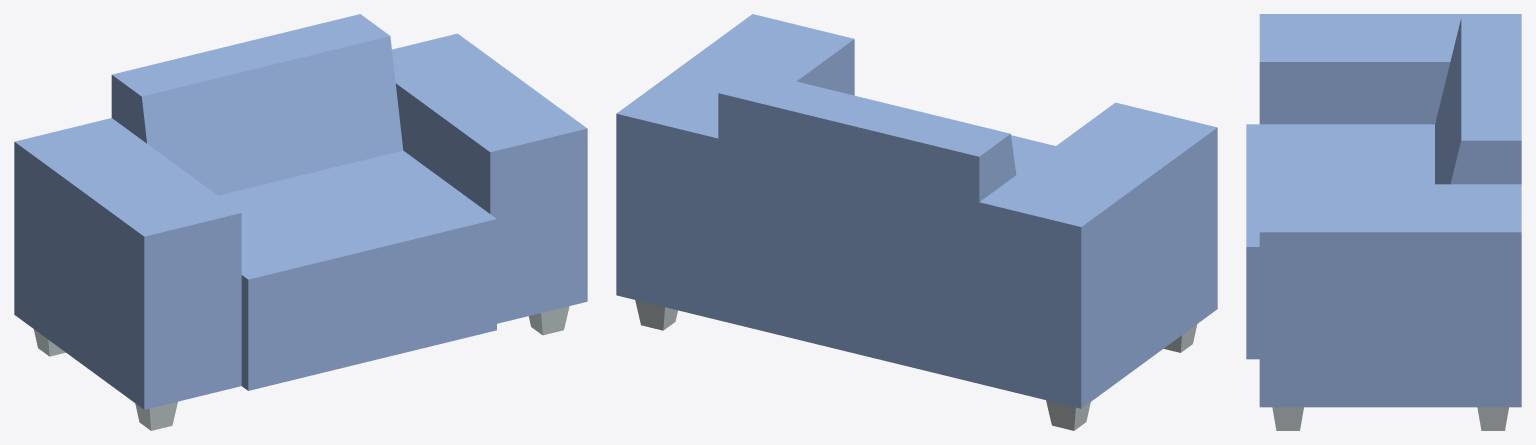
File: loungeDesignChair-col.glb
3 renders of one model, left to right at view 1: azimuth 30°, elevation 25°; view 2: azimuth 150°, elevation 25°; view 3: azimuth 270°, elevation 25°, orthographic. The views are drawn at different scales.
Parts seen in each view (by area): view 1: loungeDesignChair-col; view 2: loungeDesignChair-col; view 3: loungeDesignChair-col.
Part boxes in pixels (x1,y1,x2,y2): loungeDesignChair-col: [14, 14, 587, 430]; loungeDesignChair-col: [616, 14, 1217, 430]; loungeDesignChair-col: [1246, 14, 1521, 430].
Bounding box in the file's own units: 0.75 × 0.4 × 0.4.
